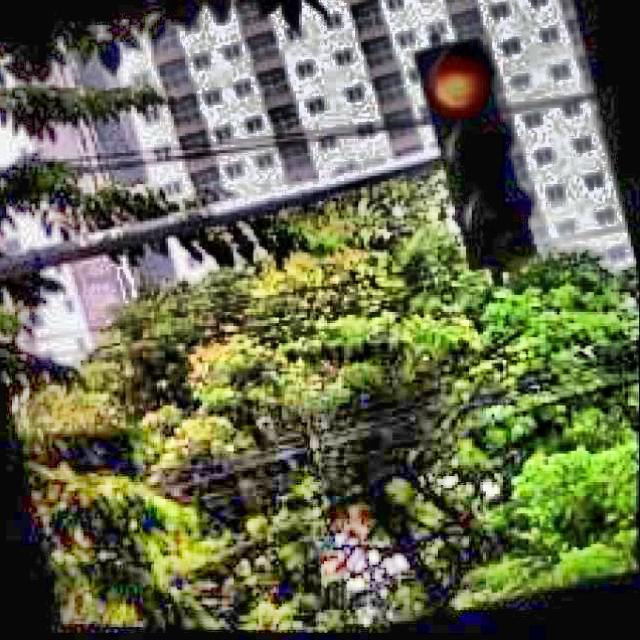red: (421, 36, 531, 278)
